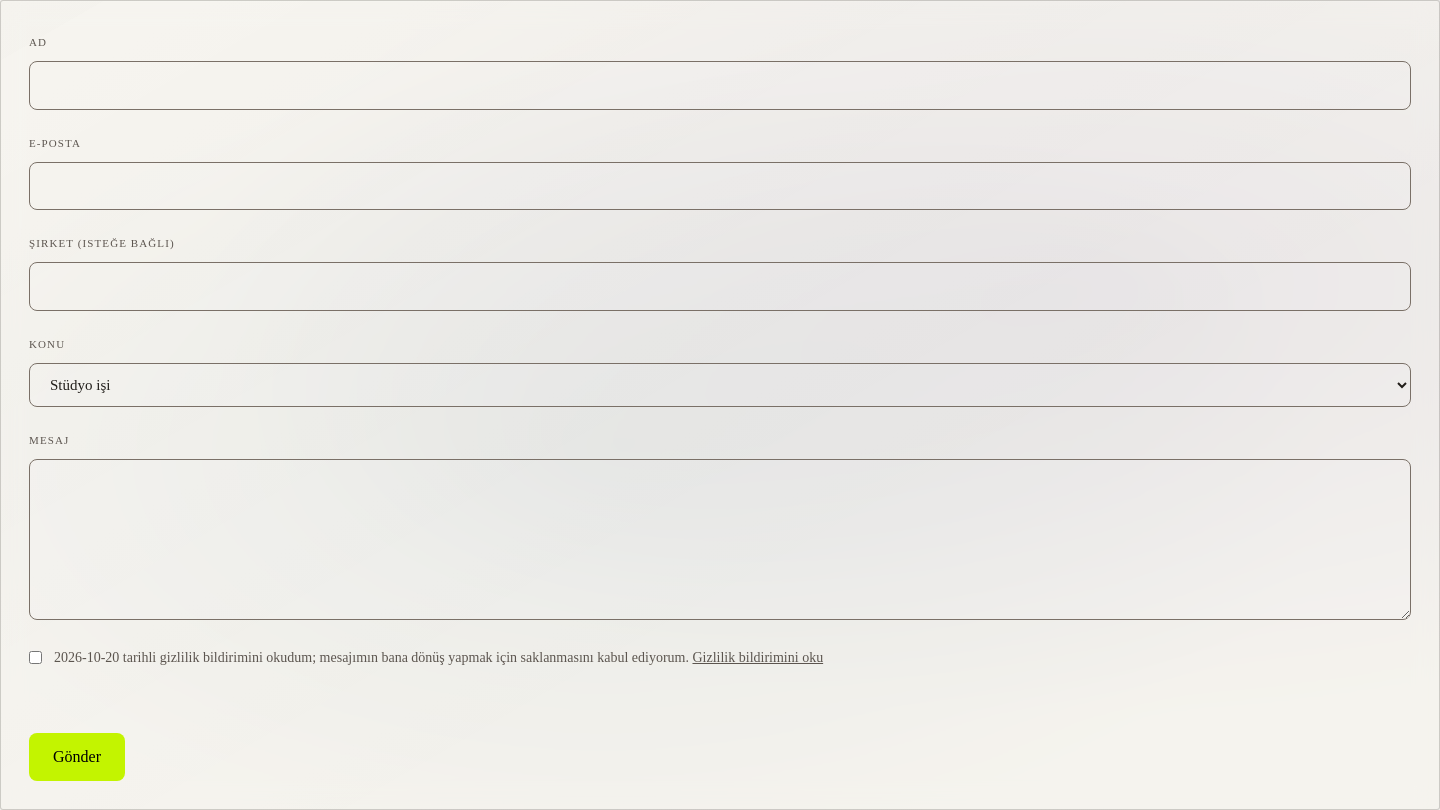
Test: when it does not go through › points a person at email when the form is closed
The image size is (1440, 810).
Type "Ada" into the field labelled "Ad". click: (720, 85)
box: [29,61,1411,110]
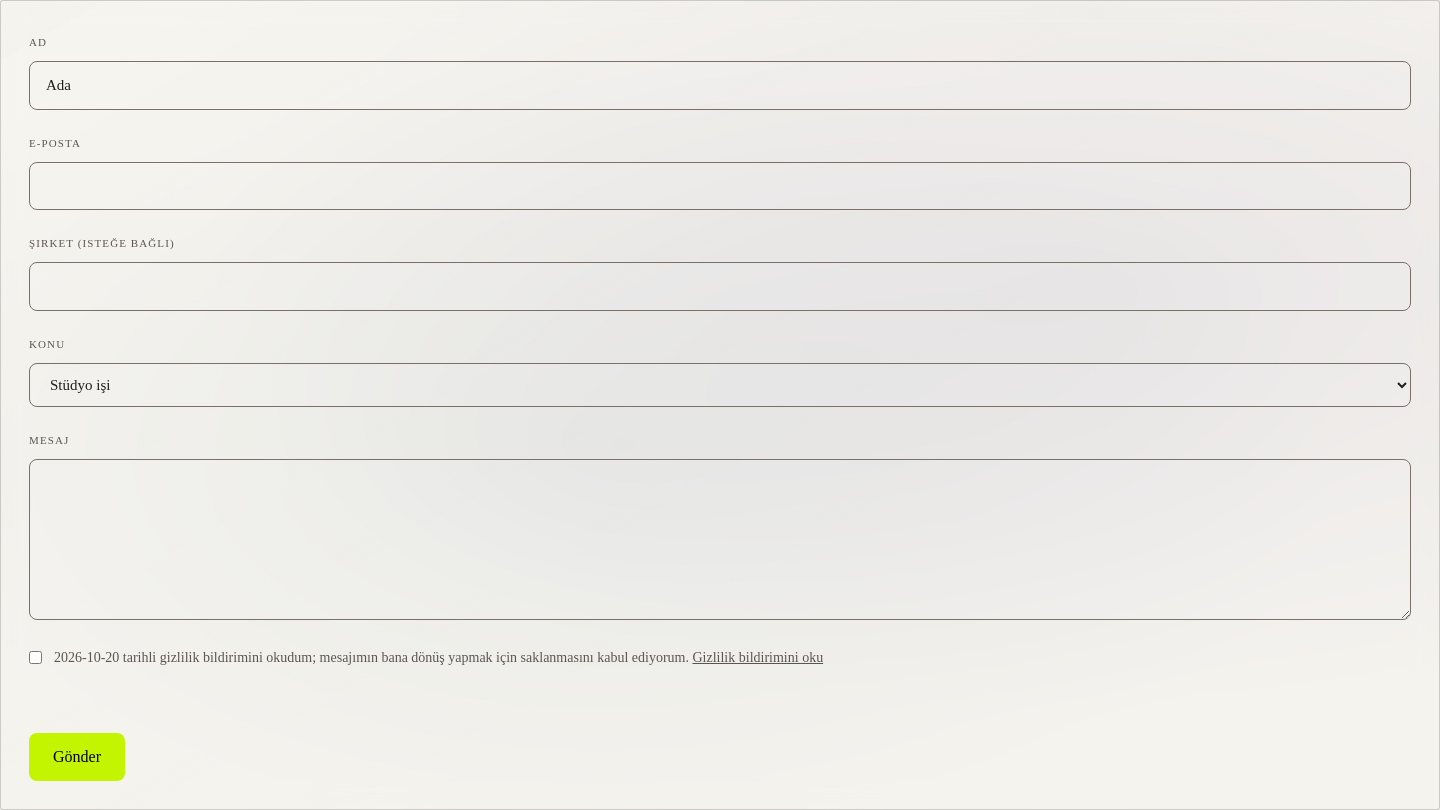
Type "ada@example.com" into the field labelled "E-posta". click: (720, 186)
box: [29,162,1411,210]
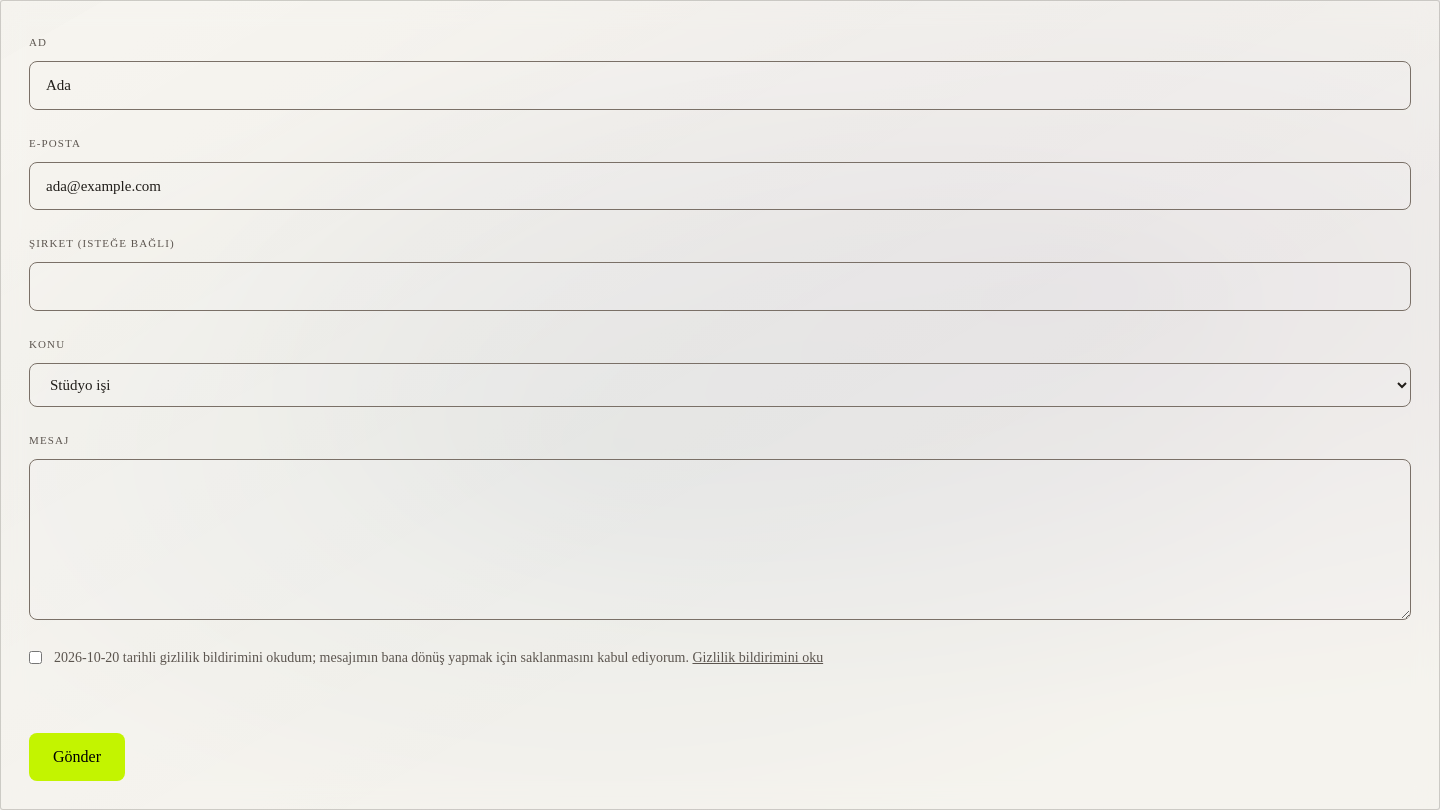
Type "merhaba" into the text box labelled "Mesaj". click: (720, 539)
box: [29,458,1411,620]
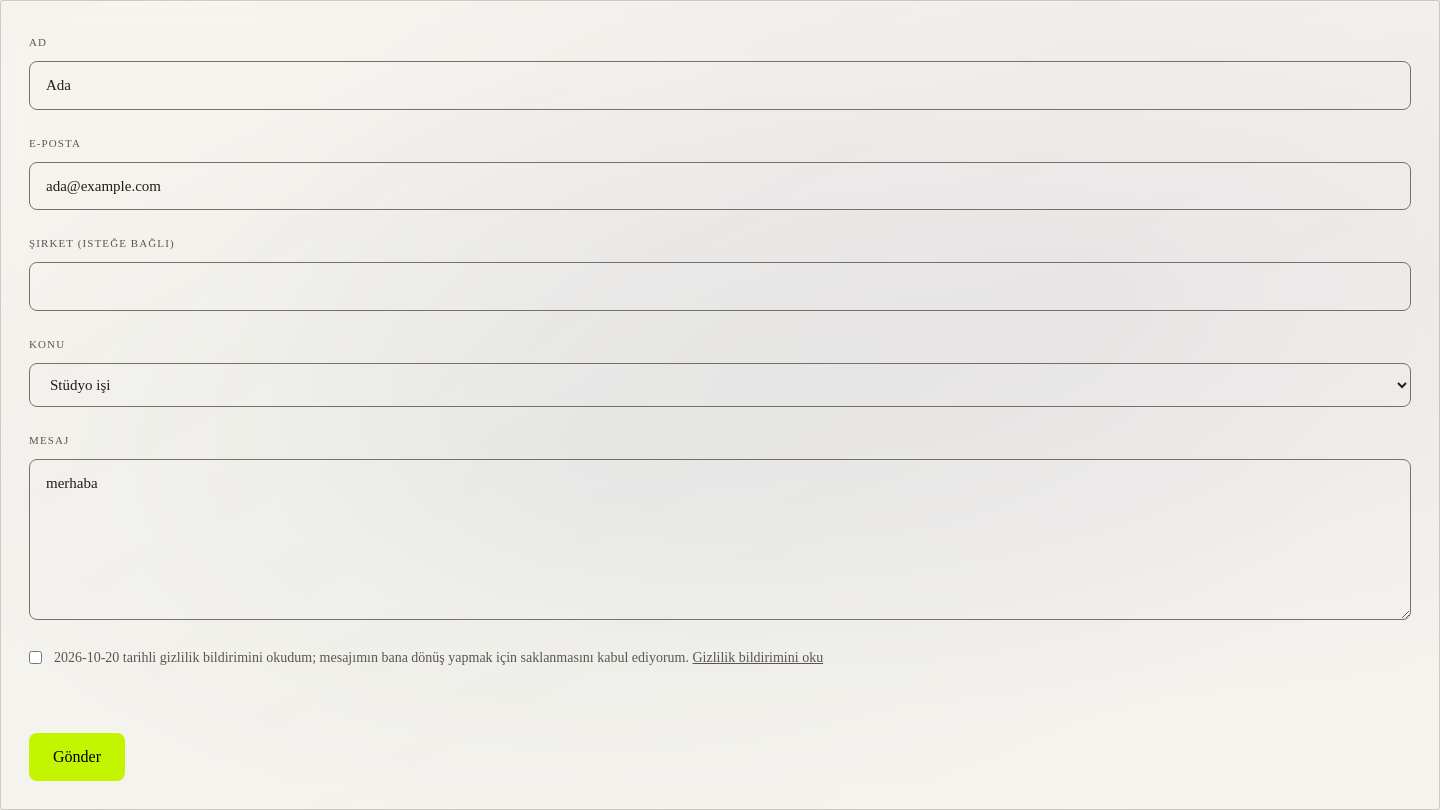
Click the checkbox. click: (36, 657)
box: [29,650,42,664]
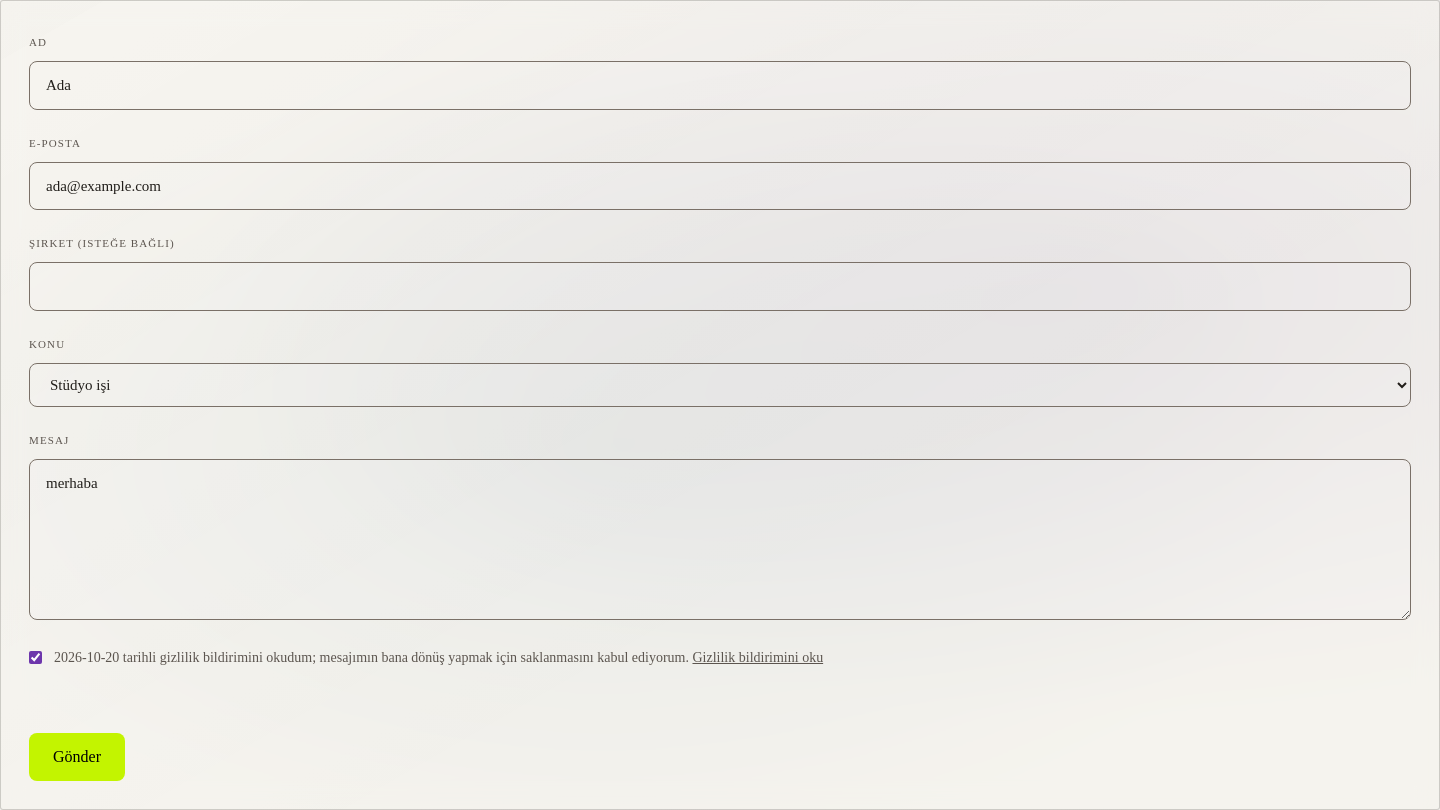
Submit the form from the button "Gönder", box [29,733,125,781]
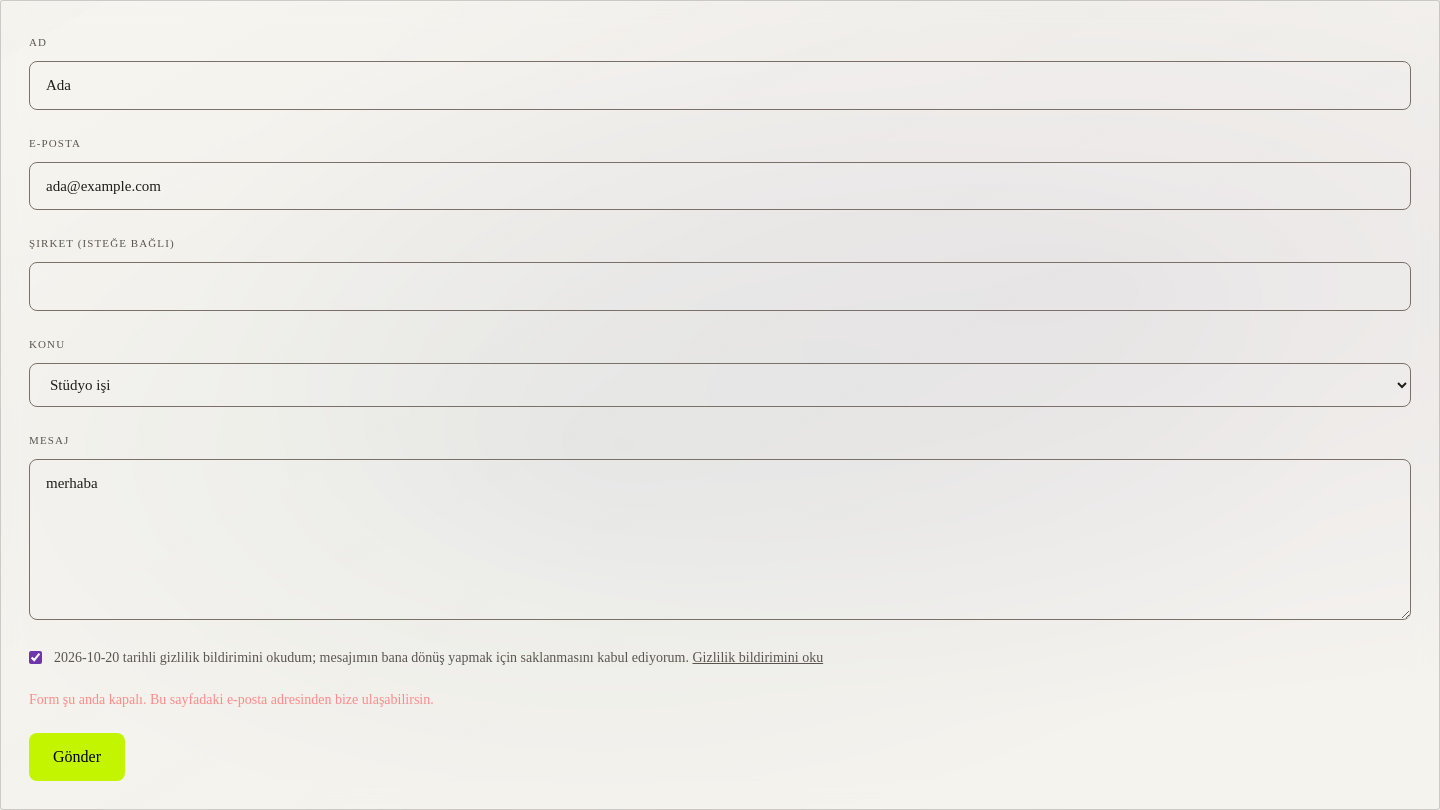
Check: the text "Form şu anda kapalı. Bu sayfadaki e-posta adresinden bize ulaşabilirsin." is shown, box [29,692,434,707]
